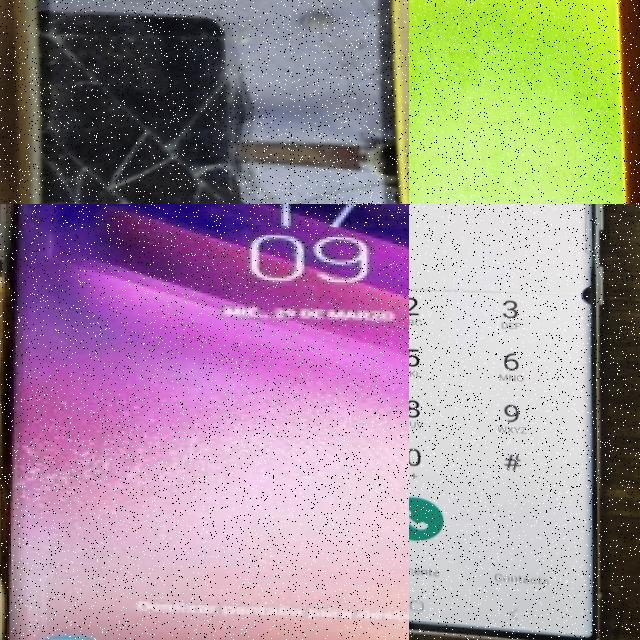dead pixel: (569, 276, 608, 307)
screen crack: (15, 0, 400, 204)
